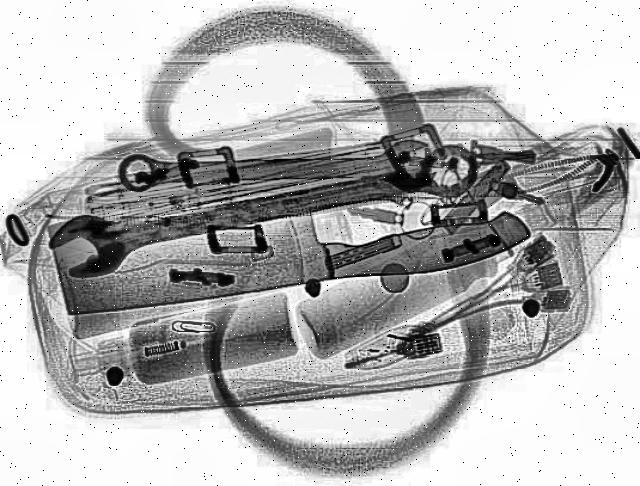Knife: (44, 168, 540, 318)
Wrench: (39, 138, 491, 285), (118, 144, 432, 195)
